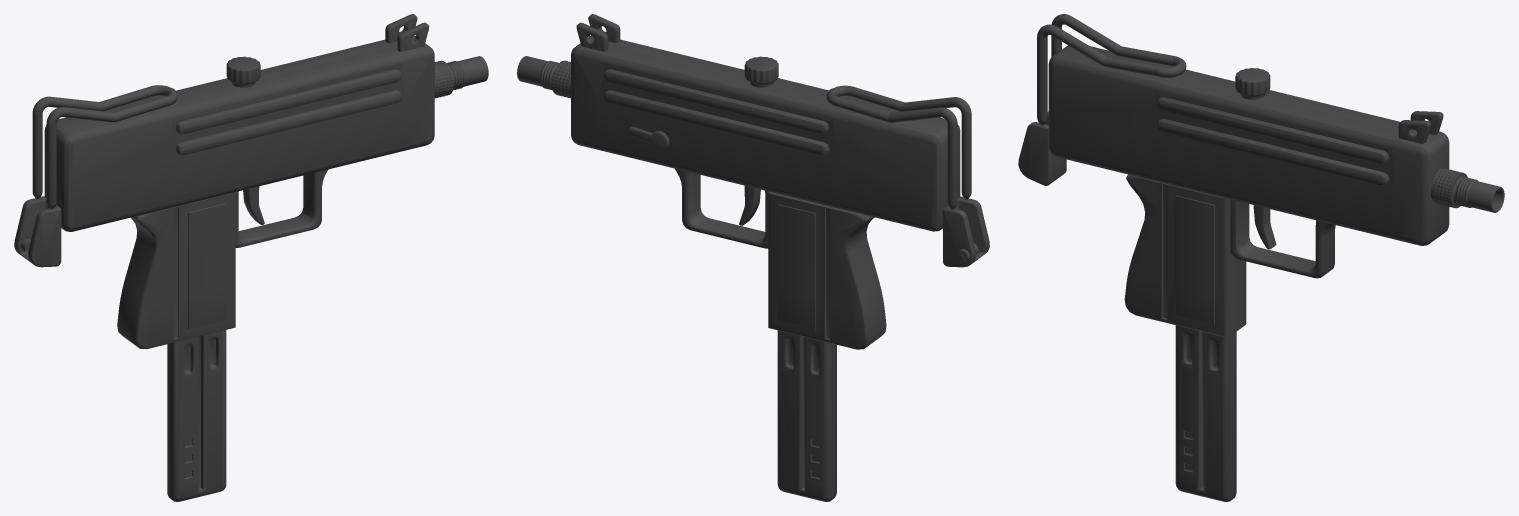
The model's file is mac10.fbx.
3 renders of one model, left to right at view 1: azimuth 30°, elevation 25°; view 2: azimuth 150°, elevation 25°; view 3: azimuth 330°, elevation 25°, orthographic. The views are drawn at different scales.
Parts seen in each view (by area): view 1: Cube.020, Cube.023, Cube.021, Cylinder.003; view 2: Cube.020, Cube.023, Cube.021, Cylinder.003, Cylinder.005, Cube.022; view 3: Cube.020, Cube.023, Cube.021, Cylinder.003, Cube.022.
Part boxes in pixels (left/top/right/bottom): Cube.020: left=44, top=14, right=488, bottom=349; Cube.023: left=167, top=330, right=226, bottom=501; Cube.021: left=14, top=85, right=177, bottom=267; Cylinder.003: left=226, top=56, right=260, bottom=87; Cube.020: left=517, top=14, right=960, bottom=349; Cube.023: left=777, top=330, right=836, bottom=501; Cube.021: left=826, top=85, right=989, bottom=267; Cylinder.003: left=744, top=56, right=778, bottom=87; Cylinder.005: left=627, top=126, right=669, bottom=150; Cube.022: left=739, top=185, right=760, bottom=225; Cube.020: left=1048, top=45, right=1504, bottom=337; Cube.023: left=1175, top=325, right=1236, bottom=501; Cube.021: left=1018, top=14, right=1186, bottom=185; Cylinder.003: left=1235, top=68, right=1270, bottom=99; Cube.022: left=1253, top=205, right=1276, bottom=249.
Size of the model in its own units: 117 by 105 by 13.42.
1 material, 1 textured.
